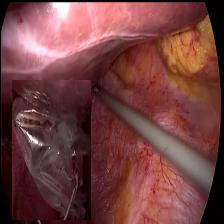Irrigator: (90, 80, 108, 102)
Specimen Bag: (11, 79, 90, 219)
